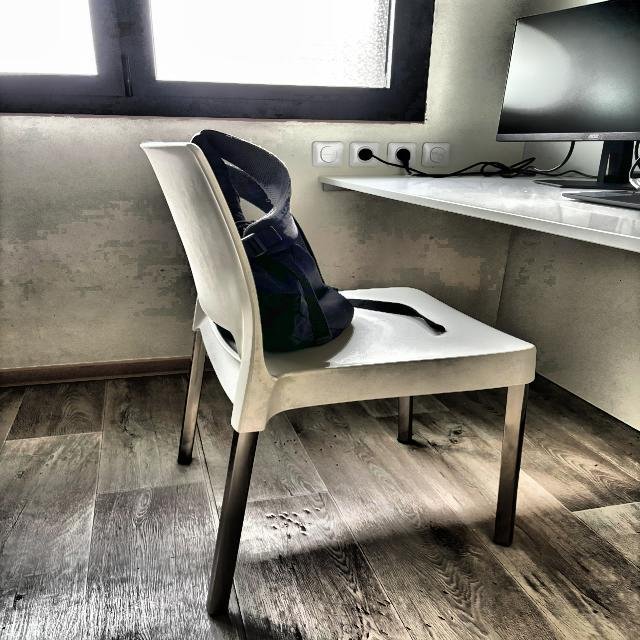cadeira: (130, 123, 597, 622)
